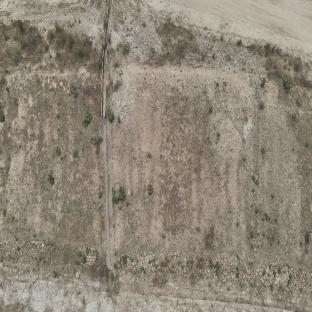rock_toe: (118, 246, 310, 302), (1, 240, 102, 279)
slope_drain: (98, 0, 116, 270)
toe_drain: (1, 270, 310, 312)
